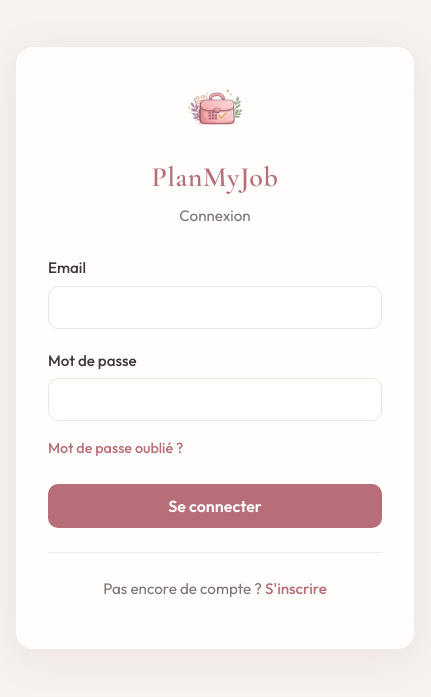
Test case: Login › shows error when sign in fails
Type "user@test.com" into the field labelled "Email".
click(215, 307); type("user@test.com")  # box [48, 286, 382, 329]
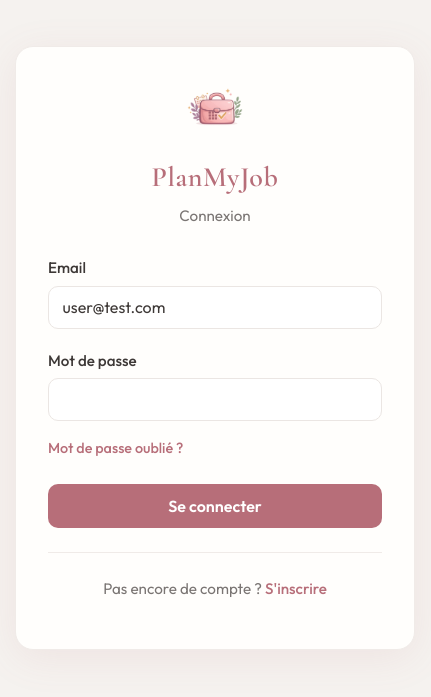
Type "secret" into the password field labelled "Mot de passe".
click(215, 400); type("secret")  # box [48, 378, 382, 421]
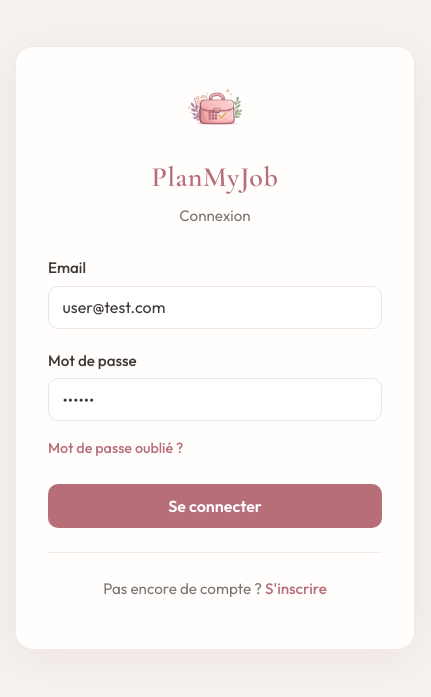
Click the button "Se connecter".
click(215, 506)  # box [48, 484, 382, 528]
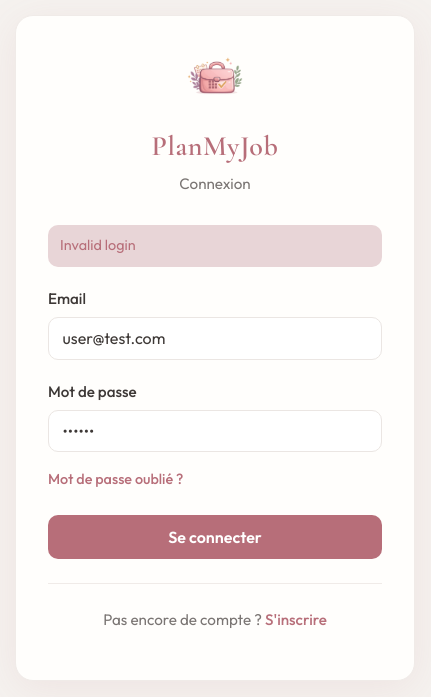
Check: the message reads "Invalid login", box [60, 236, 136, 254]
